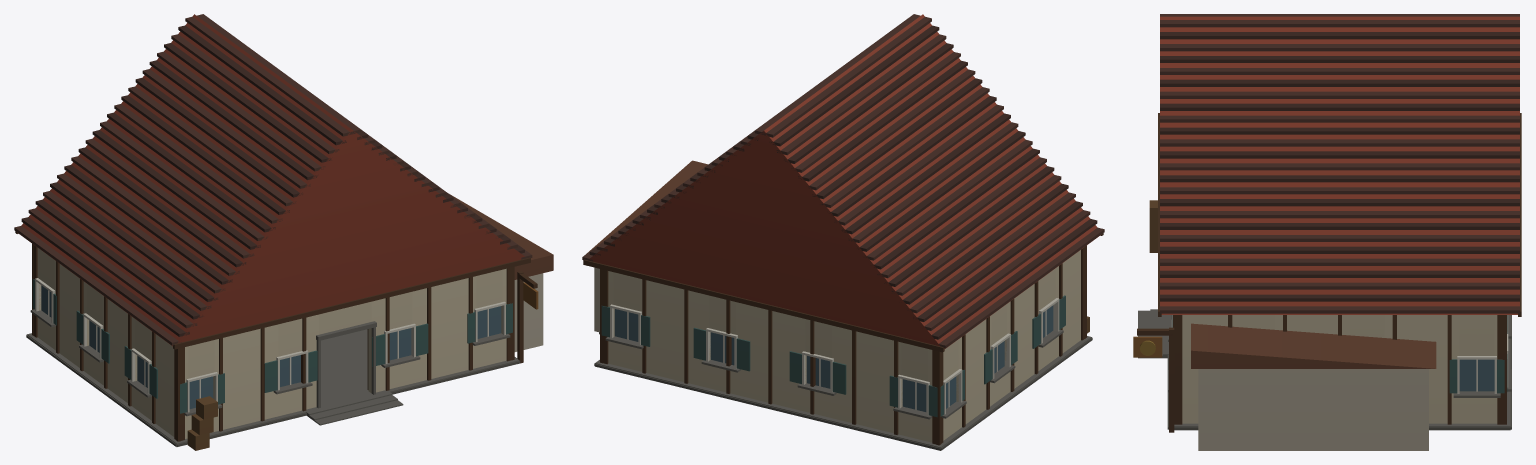
Rendered from town_shop.glb.
3 renders of one model, left to right at view 1: azimuth 30°, elevation 25°; view 2: azimuth 150°, elevation 25°; view 3: azimuth 270°, elevation 25°, orthographic. The views are drawn at different scales.
Parts seen in each view (by area): view 1: prop; view 2: prop; view 3: prop.
Boxes of the visible parts, <box> form: prop: <box>14,14,553,450</box>; prop: <box>582,14,1104,450</box>; prop: <box>1133,14,1521,450</box>.
Size of the model in its own units: 14.24 by 9.64 by 10.62.
